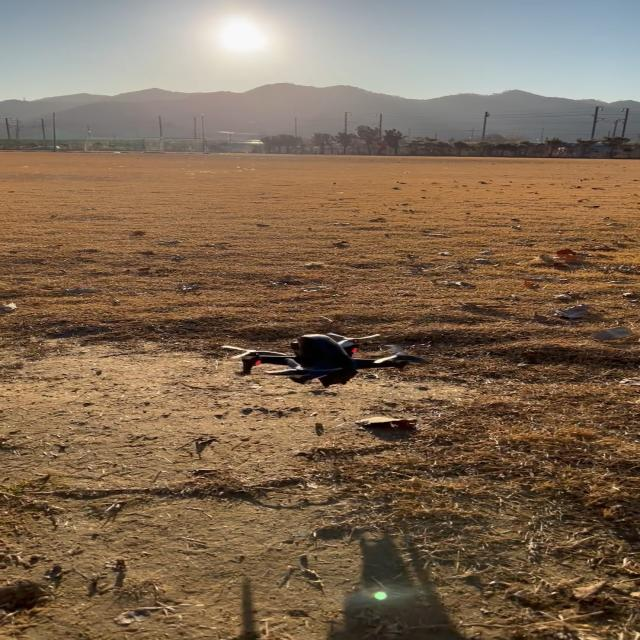drone: (218, 331, 429, 388)
